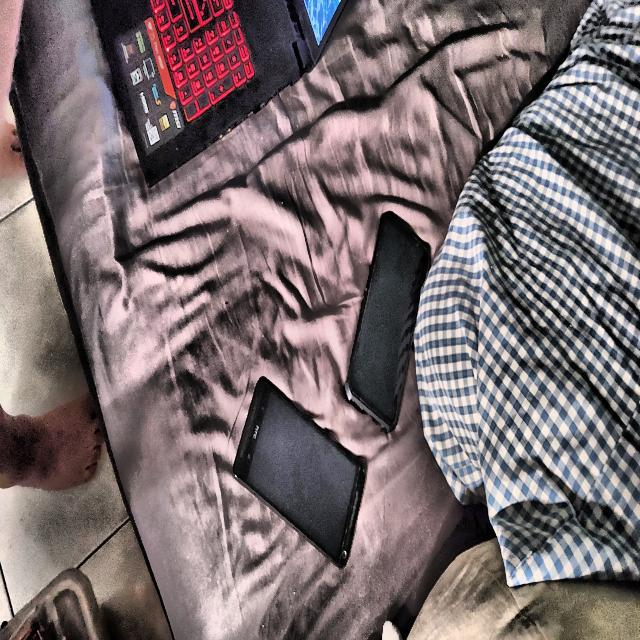Laptop: (92, 0, 346, 186)
PHONE: (233, 377, 367, 568), (345, 212, 430, 432)
